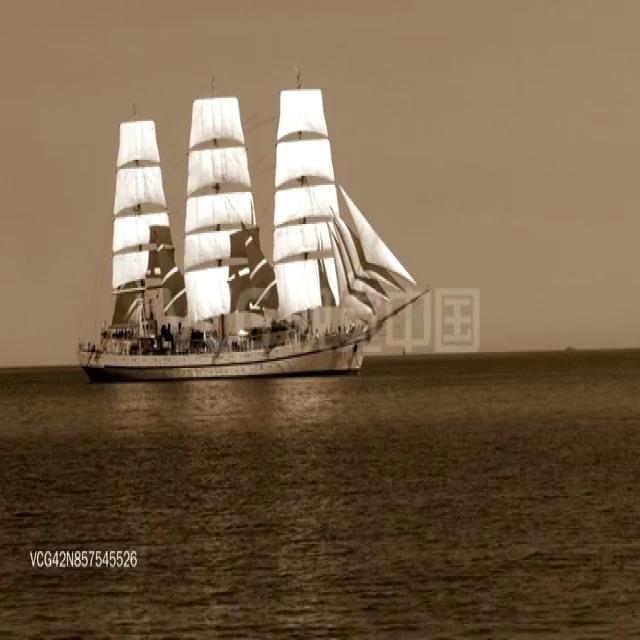sailboat: (67, 74, 416, 379)
